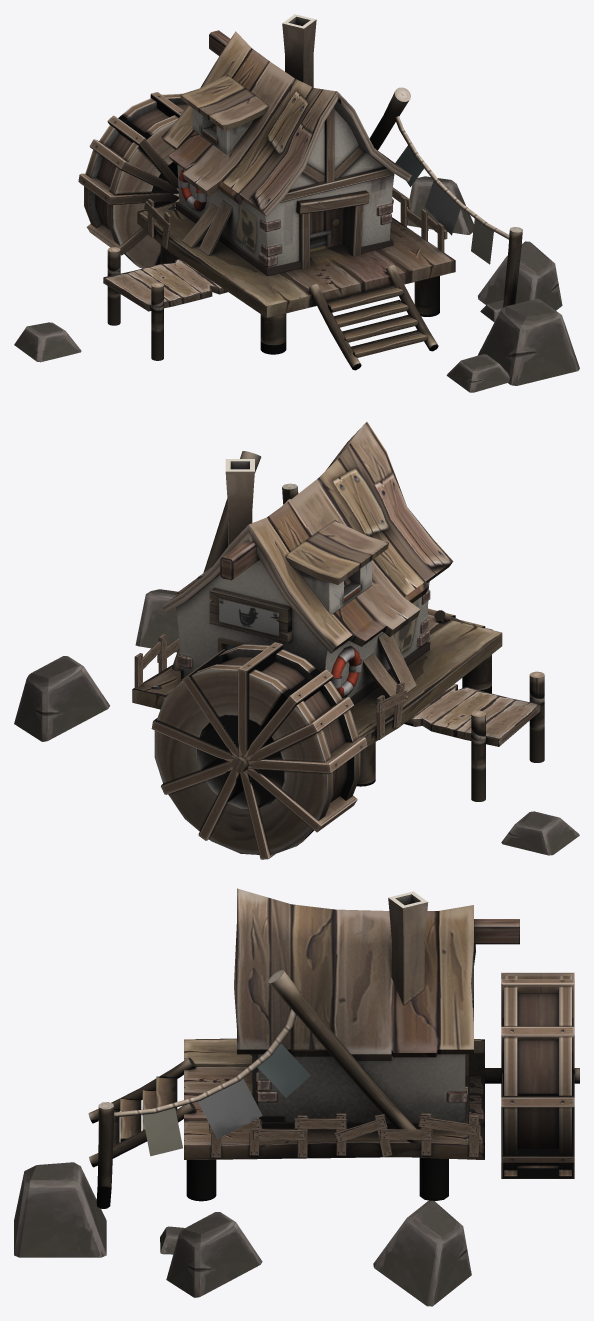
Rendered from Mill.fbx.
3 renders of one model, top to bottom at view 1: azimuth 30°, elevation 25°; view 2: azimuth 150°, elevation 25°; view 3: azimuth 270°, elevation 25°, orthographic. The views are drawn at different scales.
Visible parts, largest first — view 1: m_House, m_Rock, m_WoodenBeams, m_Pier, m_Clothline, m_Fence, m_Bricks; view 2: m_House, m_Rock, m_Pier, m_Fence, m_WoodenBeams, m_Clothline; view 3: m_House, m_Rock, m_Clothline, m_Fence, m_Bricks.
Part boxes in pixels (left/top/right/bottom): m_House: left=78, top=14, right=455, bottom=370; m_Rock: left=14, top=176, right=579, bottom=392; m_WoodenBeams: left=182, top=106, right=392, bottom=268; m_Pier: left=103, top=247, right=227, bottom=360; m_Clothline: left=369, top=87, right=522, bottom=307; m_Fence: left=144, top=187, right=447, bottom=252; m_Bricks: left=258, top=203, right=392, bottom=266; m_House: left=132, top=422, right=502, bottom=859; m_Rock: left=14, top=589, right=579, bottom=855; m_Pier: left=404, top=671, right=544, bottom=801; m_Fence: left=134, top=627, right=406, bottom=739; m_WoodenBeams: left=363, top=633, right=416, bottom=697; m_Clothline: left=172, top=451, right=298, bottom=671; m_House: left=88, top=888, right=579, bottom=1201; m_Rock: left=14, top=1162, right=471, bottom=1306; m_Clothline: left=96, top=970, right=420, bottom=1208; m_Fence: left=208, top=1113, right=478, bottom=1157; m_Bricks: left=256, top=1072, right=467, bottom=1102.
Size of the model in its own units: 165 by 90.64 by 150.
